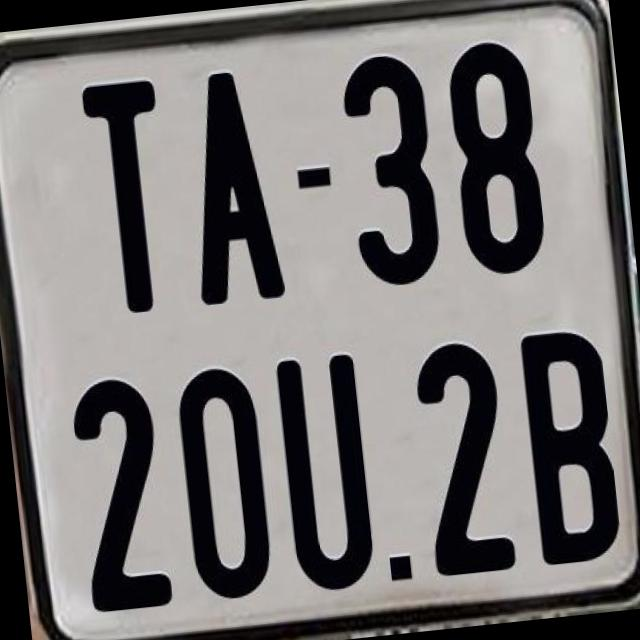0: (172, 361, 276, 605)
2: (68, 370, 178, 614), (410, 339, 514, 583)
3: (336, 47, 444, 287)
8: (440, 38, 550, 278)
A: (174, 68, 284, 307)
B: (517, 324, 621, 568)
T: (80, 73, 179, 312)
U: (273, 352, 376, 596)
